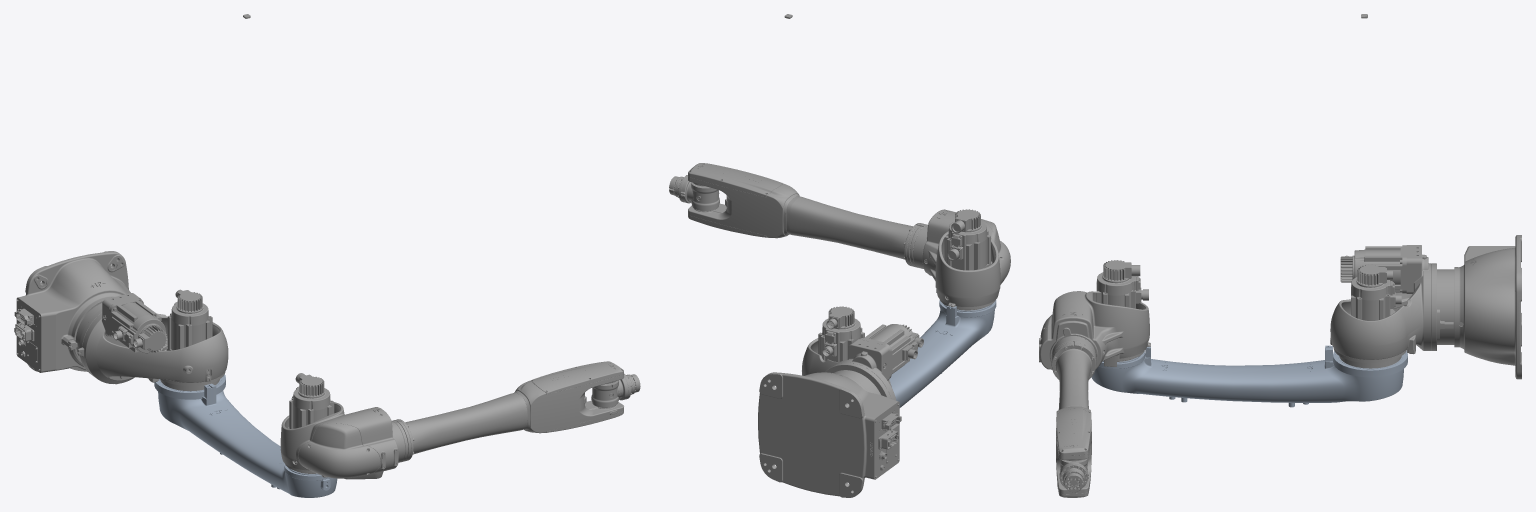
Rendered from IR-R16-210S-INT_3D.fbx.
3 renders of one model, left to right at view 1: azimuth 30°, elevation 25°; view 2: azimuth 150°, elevation 25°; view 3: azimuth 270°, elevation 25°, orthographic. The views are drawn at different scales.
Visible parts, largest first — view 1: Body1 (×9); view 2: Body1 (×11); view 3: Body1 (×11).
Boxes of the visible parts, x1=… form: Body1 (×9): x1=16, y1=251, x2=636, y2=497; Body1 (×11): x1=673, y1=163, x2=1010, y2=497; Body1 (×11): x1=1039, y1=235, x2=1521, y2=497.
Bounding box in the file's own units: 65.06 × 59.66 × 62.8.
